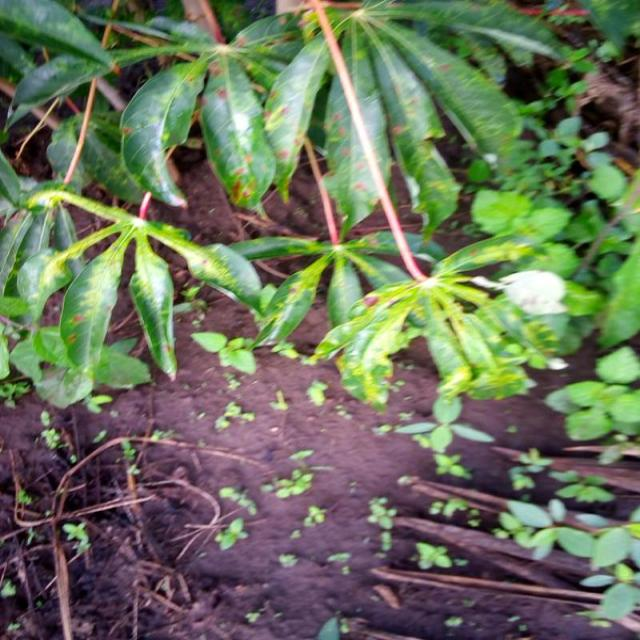cassava leaf: (1, 0, 587, 417), (118, 57, 205, 209)
